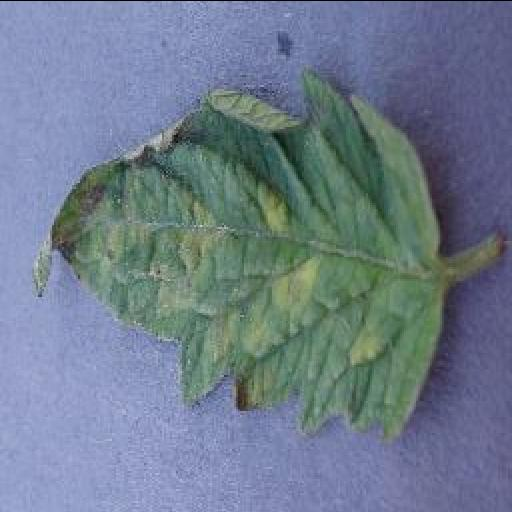disease_tomato: (26, 73, 448, 437)
